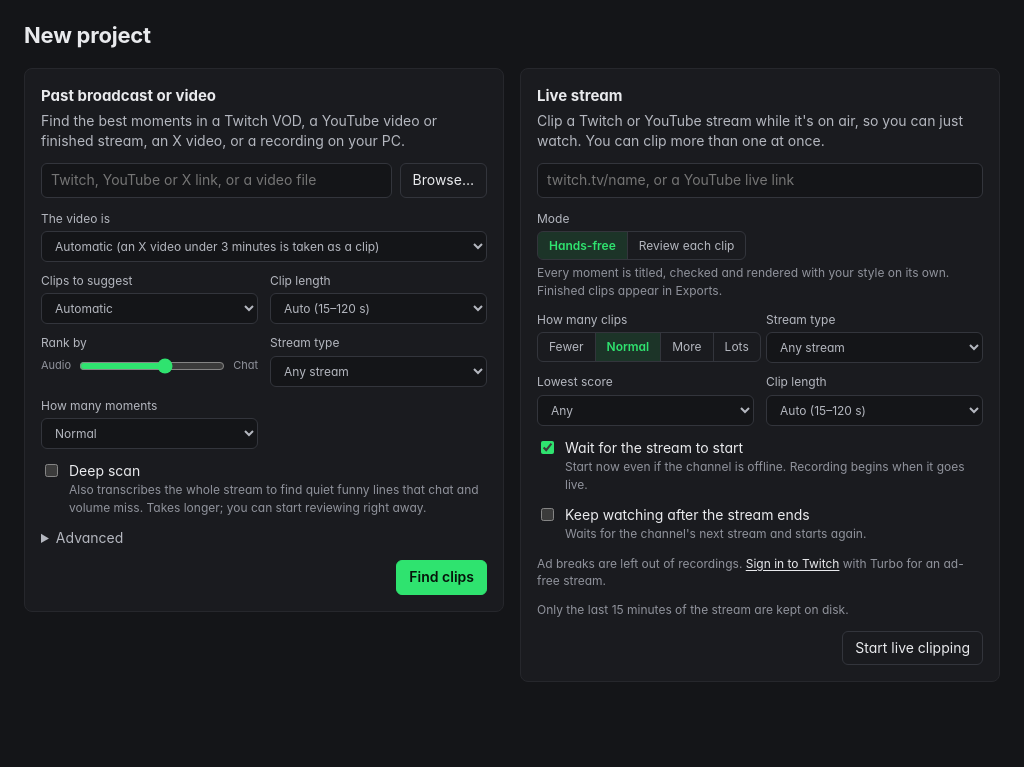
Scenario: Home › says why when the video can't be opened
Type "https://youtu.be/x" into the field with test id "source-input" at x=216, y=180, box [41,163,392,198]
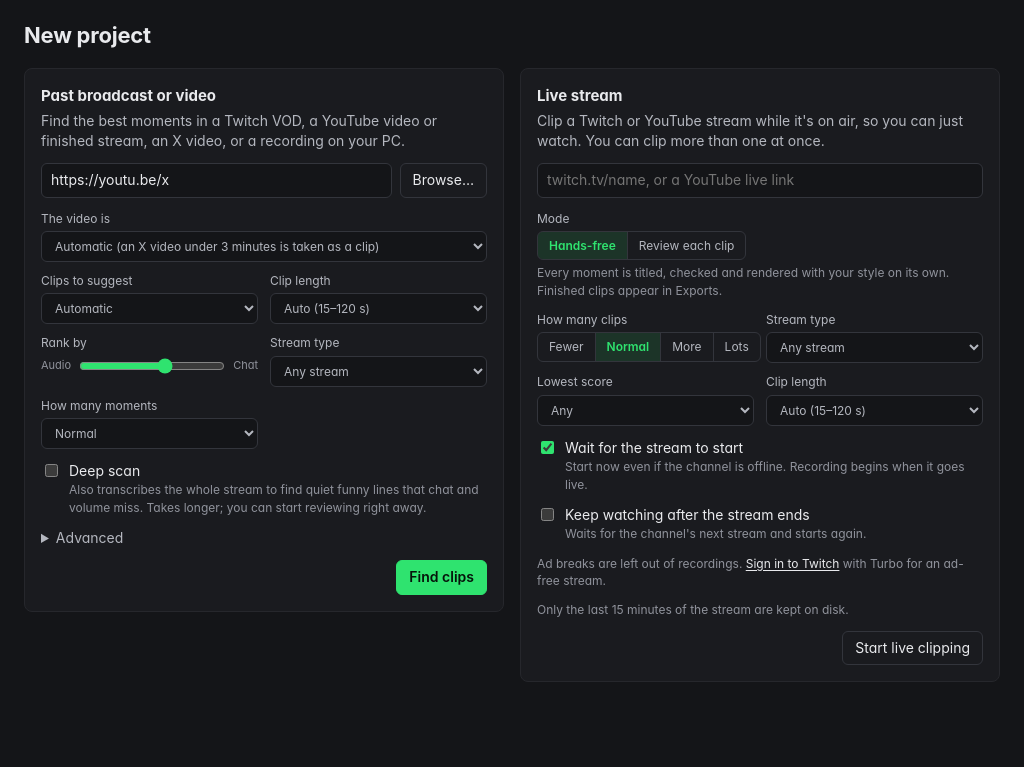
Click the button with test id "find-clips" at x=442, y=578, box [396,560,487,595]
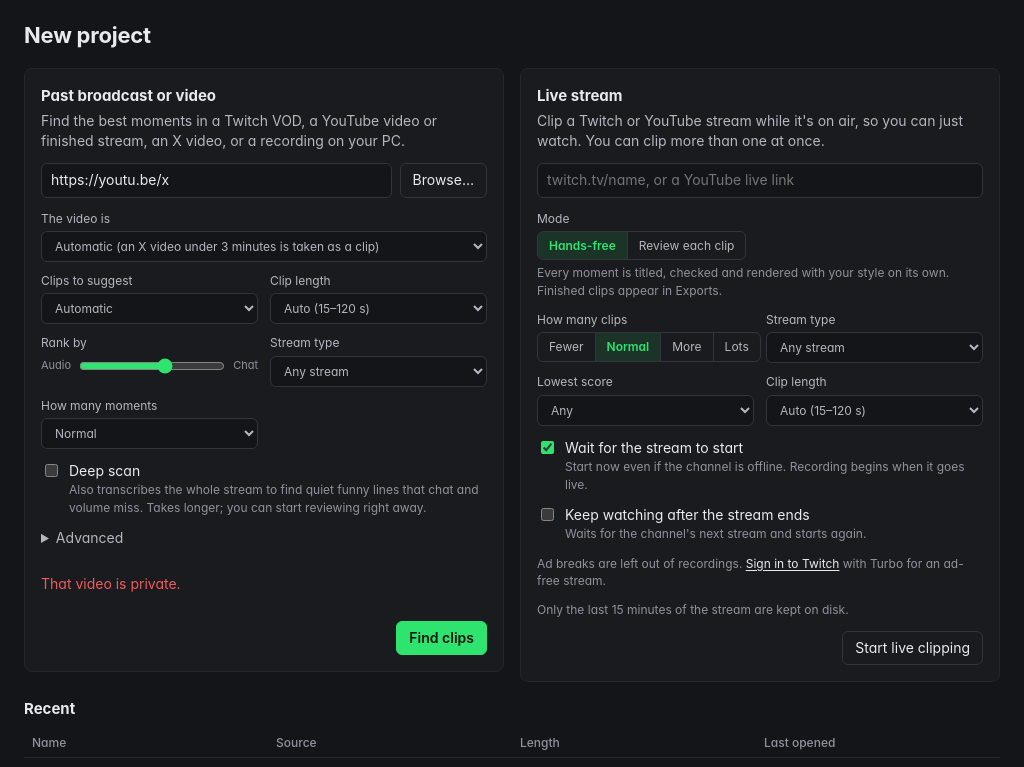
Check: the message with test id "vod-error" reads "That video is private.", box [41,576,181,592]
